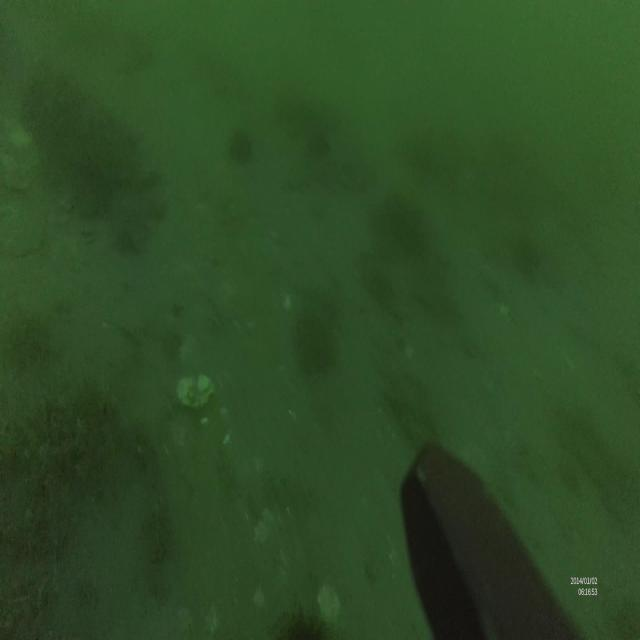scallop: (175, 375, 216, 413)
